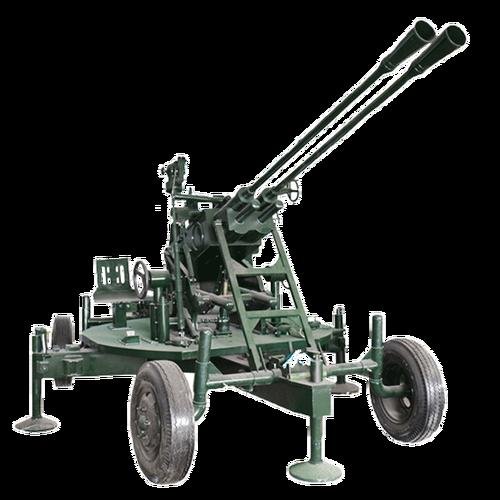MIL_SPG: (13, 20, 469, 487)
